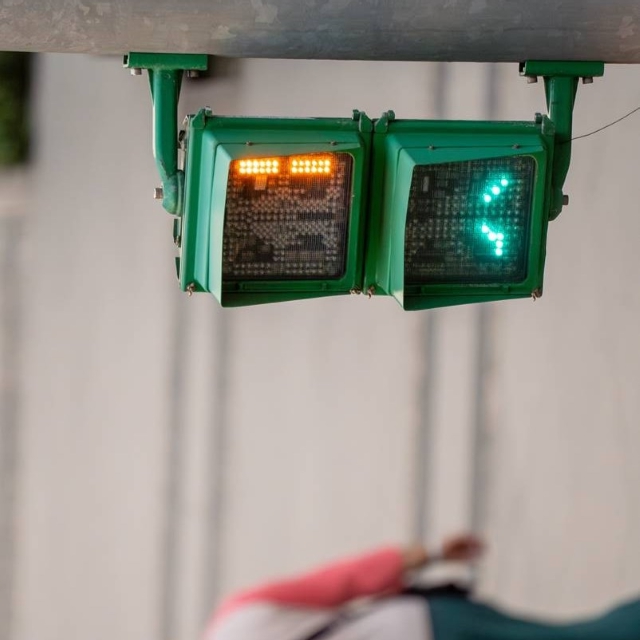green_light: (185, 116, 546, 303)
